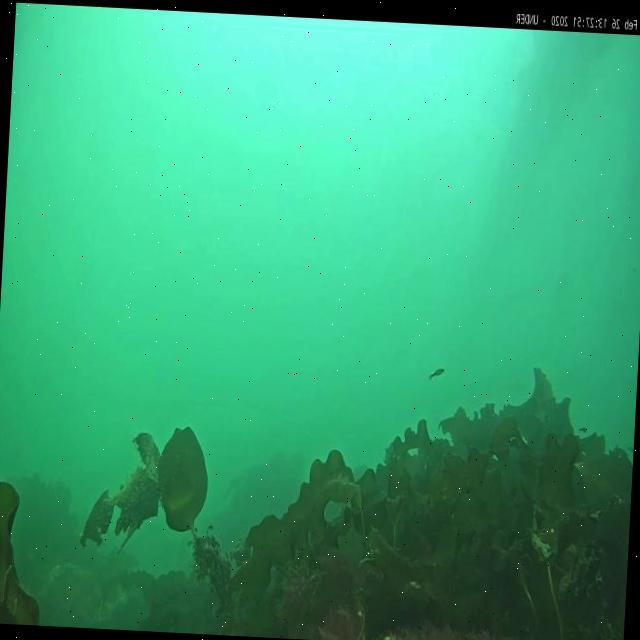fish: (430, 366, 445, 380)
